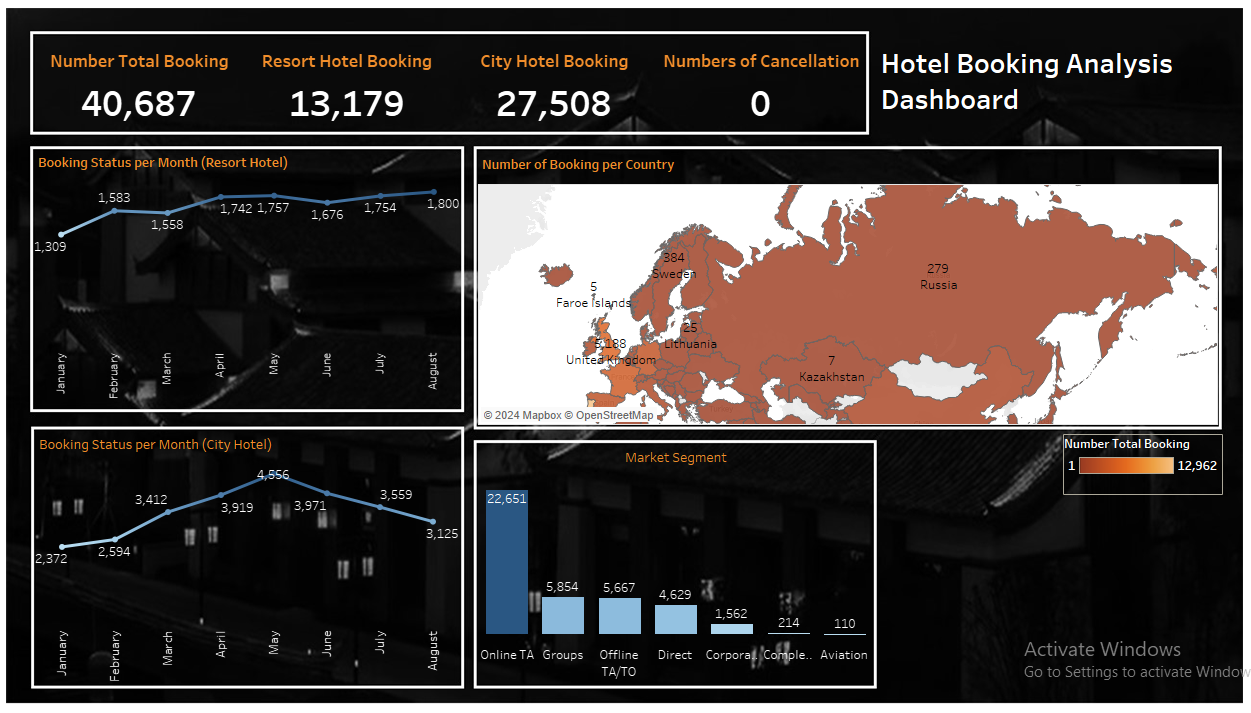

This screenshot's page, from the dashboard's own definition file:
{"tool":"tableau","page":{"name":"Hotel Booking Analysis Dashboard","canvas":[1280,720],"ordinal":0},"visuals":[{"type":"image","param":"Image/Presentation1.jpg","box":[8,8,1264,704]},{"type":"text","box":[884,35,318,99]},{"type":"worksheet","title":"KPI","mark":"Automatic","box":[42,36,829,100]},{"type":"worksheet","title":"Booking Status per Month (Resort Hotel)","mark":"Line","rows":["Calculation_198721379503632385"],"cols":["arrival_date_month"],"box":[40,153,429,259]},{"type":"worksheet","title":"Number of Booking per Country","mark":"Automatic","box":[484,155,740,274]},{"type":"worksheet","title":"Booking Status per Month (City Hotel)","mark":"Line","rows":["Calculation_198721379506839554"],"cols":["arrival_date_month"],"box":[41,435,429,255]},{"type":"legend","title":"Number of Booking per Country","param":"[federated.0mzne2b0ss59b519bfut11agdxjb].[usr:Calculation_198721379507892228:qk]","box":[1069,438,160,61]},{"type":"worksheet","title":"Market Segment","mark":"Bar","rows":["Calculation_198721379520196616"],"cols":["market_segment"],"box":[485,448,394,239]}]}

Visuals, with their boxes in screenshot pixels (x1, y1, x2, y2):
image: 1,1,1250,705
text: 877,28,1195,127
"KPI" worksheet: 35,29,864,129
"Booking Status per Month (Resort Hotel)" worksheet (Line marks): 33,146,462,405
"Number of Booking per Country" worksheet: 477,148,1217,422
"Booking Status per Month (City Hotel)" worksheet (Line marks): 34,428,463,683
"Number of Booking per Country" legend: 1062,431,1222,492
"Market Segment" worksheet (Bar marks): 478,441,872,680
